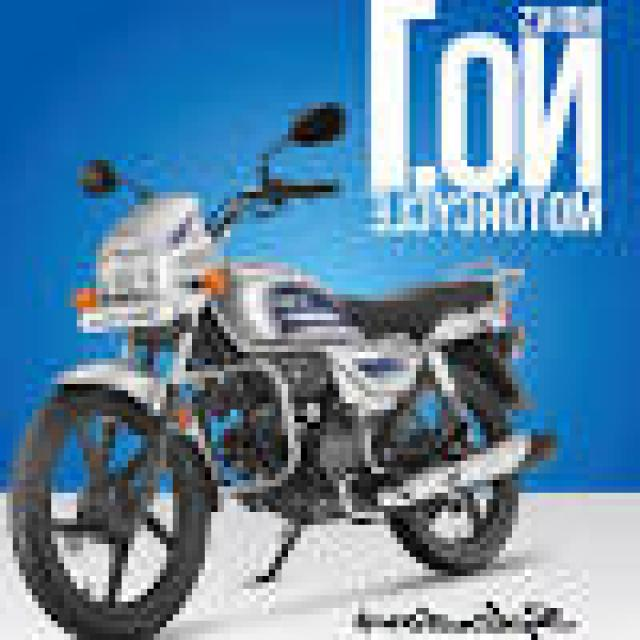bike: (11, 103, 558, 639)
